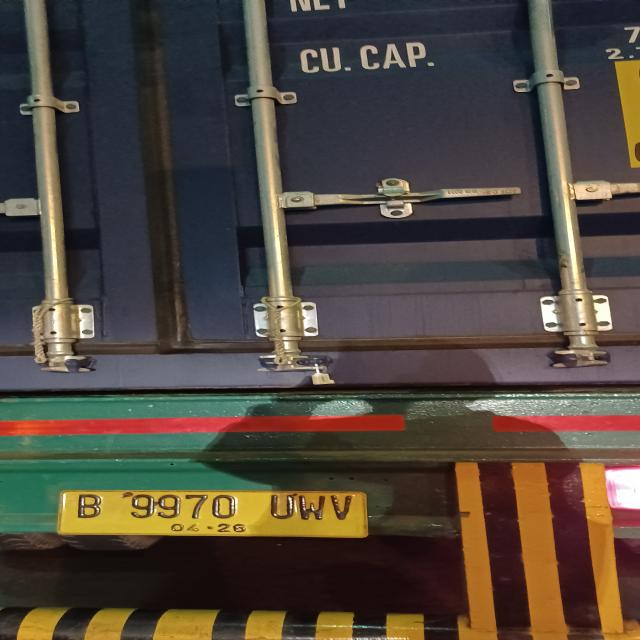seal: (304, 351, 341, 386)
